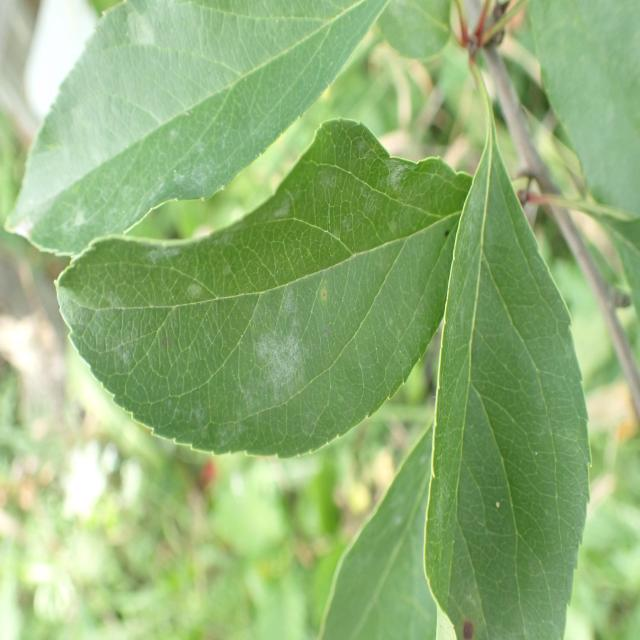Black Rot: (446, 606, 492, 640)
Powdery_mildew: (100, 156, 421, 441), (11, 0, 352, 244), (434, 138, 527, 492)
